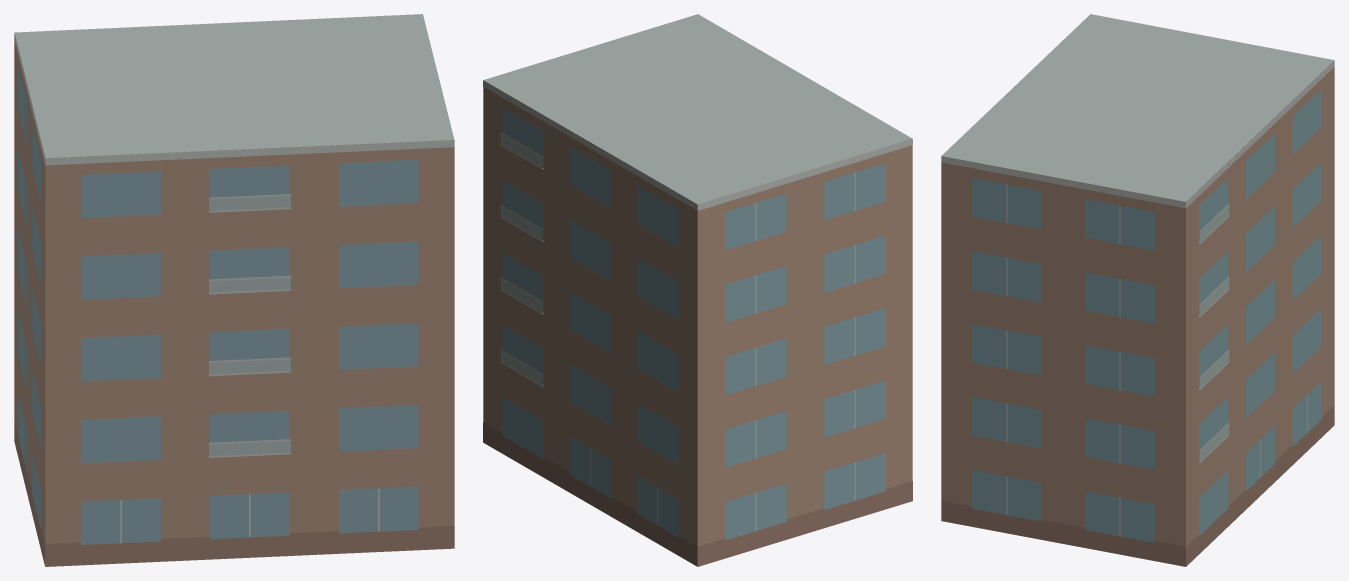
Rendered from survey-upis-32924486.glb.
The picture shows the model from 3 angles, left to right: view 1: azimuth 30°, elevation 25°; view 2: azimuth 150°, elevation 25°; view 3: azimuth 270°, elevation 25°; orthographic projection. The views are drawn at different scales.
Visible parts, largest first — view 1: survey-upis-32924486.tmp; view 2: survey-upis-32924486.tmp; view 3: survey-upis-32924486.tmp.
Boxes of the visible parts, bbox=[...] form: survey-upis-32924486.tmp: bbox=[14, 14, 454, 566]; survey-upis-32924486.tmp: bbox=[483, 14, 912, 566]; survey-upis-32924486.tmp: bbox=[941, 14, 1334, 566].
Size of the model in its own units: 15.3 by 13.85 by 13.54.
